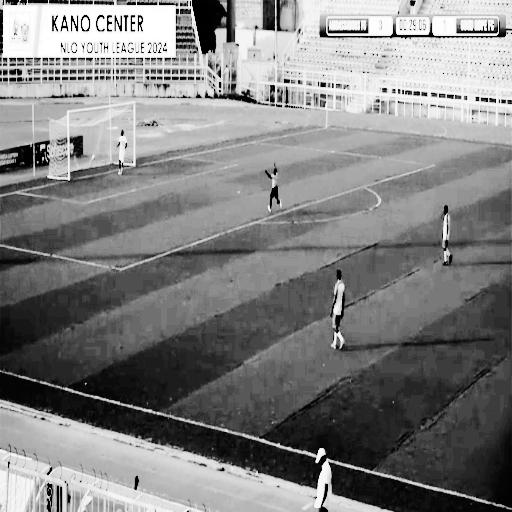ball: (86, 146, 99, 166)
keeper2: (114, 124, 128, 183)
team1: (260, 152, 290, 216)
team2: (327, 264, 347, 356), (437, 202, 461, 273)
